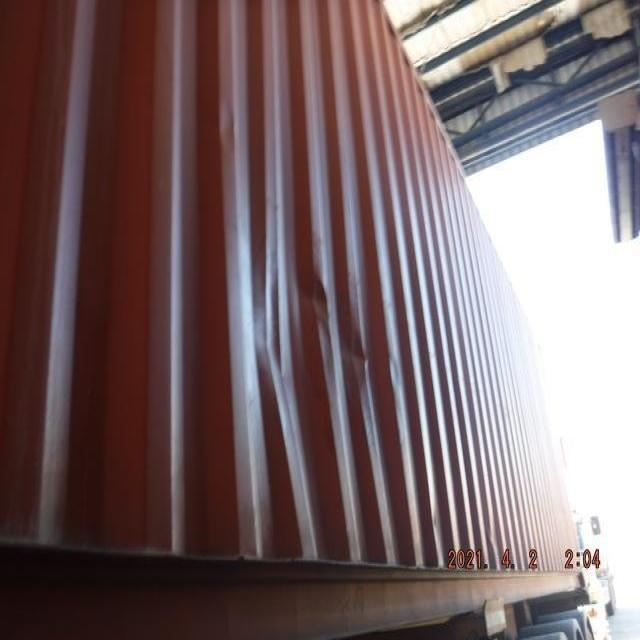dent: (224, 245, 402, 444)
